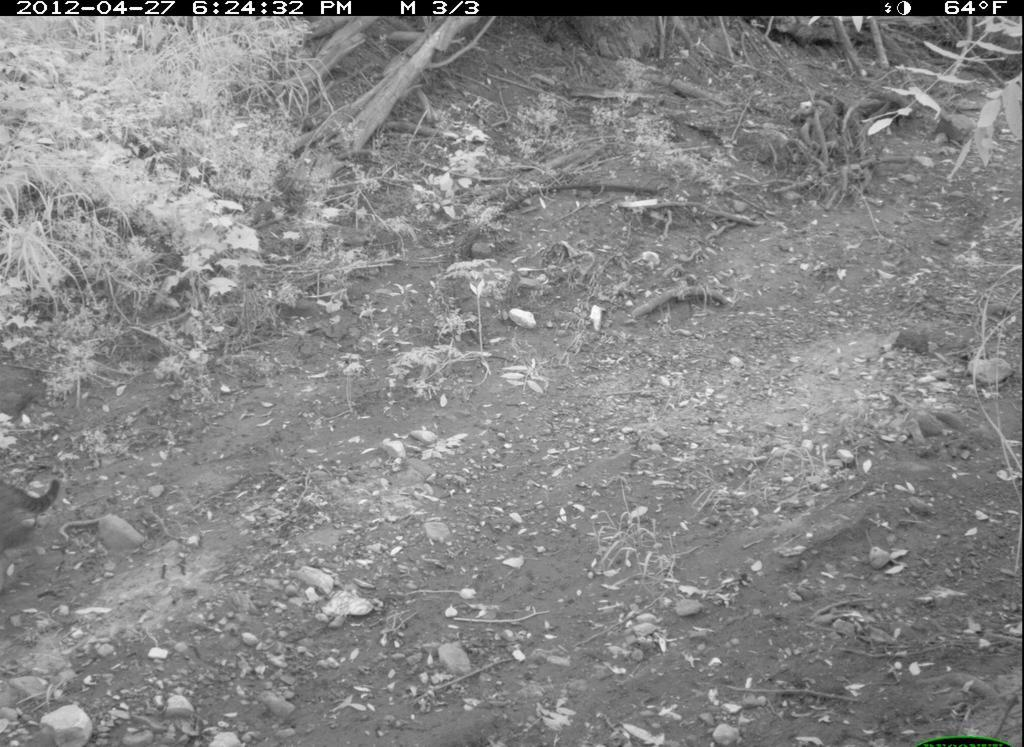cat: (1, 451, 73, 562)
